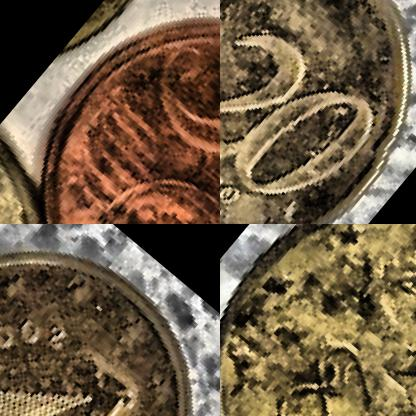coin: (0, 0, 219, 223), (220, 0, 415, 223), (0, 224, 219, 415), (220, 224, 415, 415)
